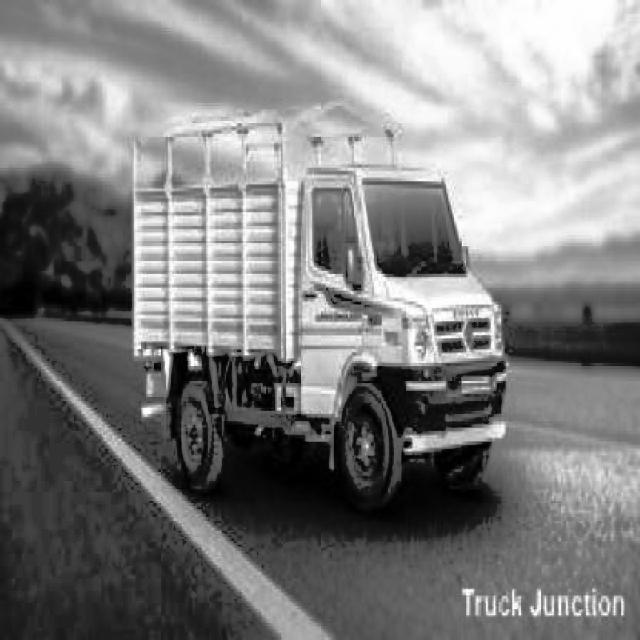LCV: (132, 123, 496, 493)
